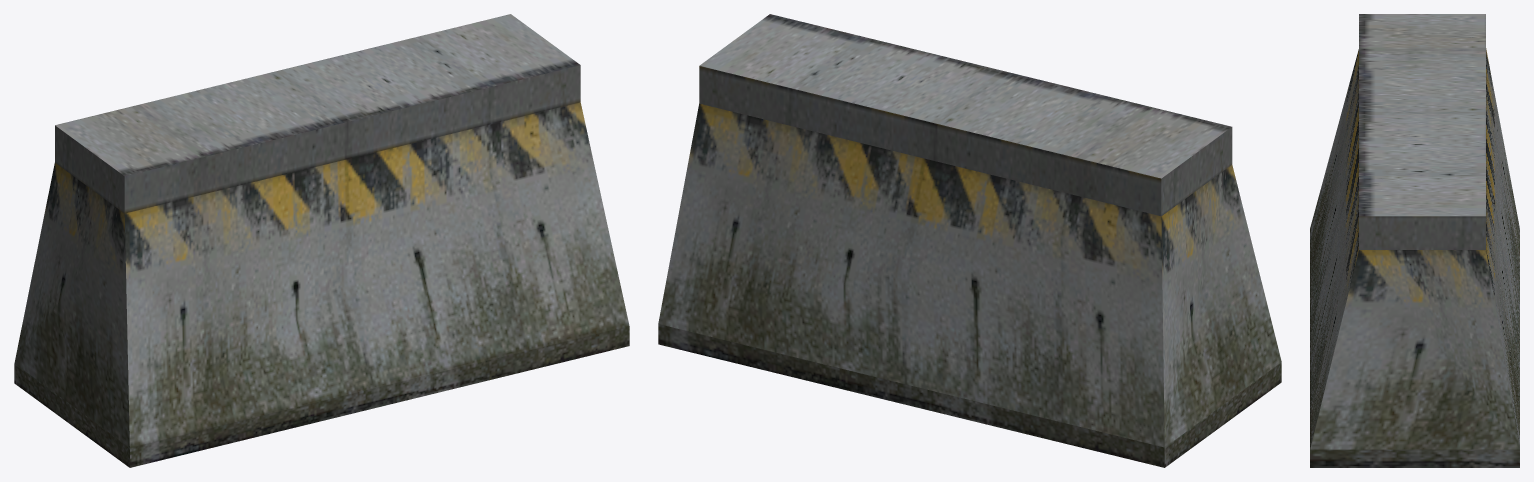
Rendered from roadblock.obj.
The picture shows the model from 3 angles, left to right: view 1: azimuth 30°, elevation 25°; view 2: azimuth 150°, elevation 25°; view 3: azimuth 270°, elevation 25°; orthographic projection. The views are drawn at different scales.
Parts seen in each view (by area): view 1: Cube_Cube.006; view 2: Cube_Cube.006; view 3: Cube_Cube.006.
Boxes of the visible parts, x1,y1,x2,y2 form: Cube_Cube.006: (14,14,629,467); Cube_Cube.006: (658,14,1281,467); Cube_Cube.006: (1310,14,1519,467).
Bounding box in the file's own units: 5 × 2.55 × 2.
